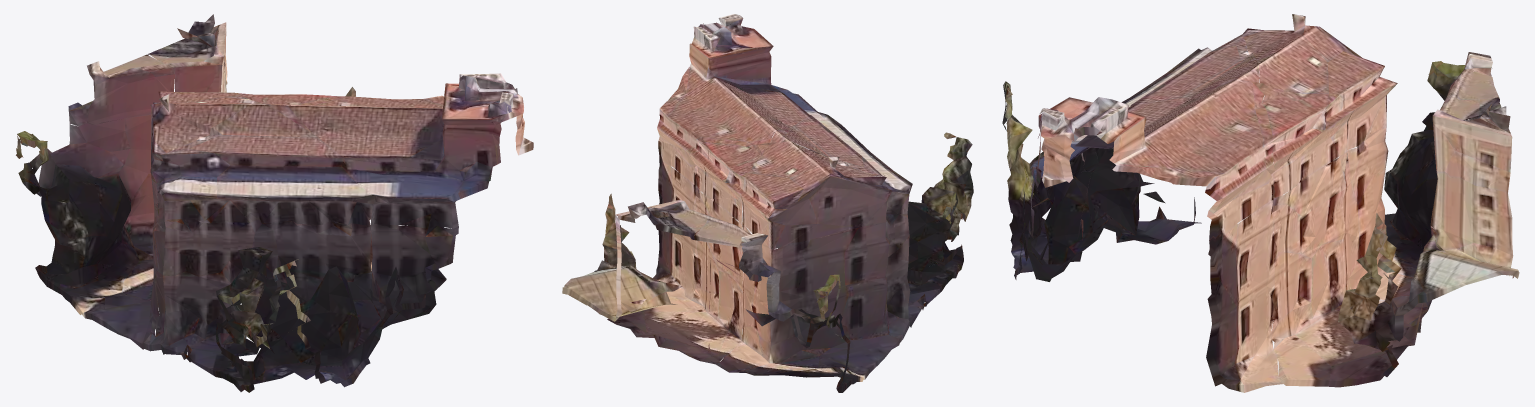
3 renders of one model, left to right at view 1: azimuth 30°, elevation 25°; view 2: azimuth 150°, elevation 25°; view 3: azimuth 270°, elevation 25°, orthographic. The views are drawn at different scales.
Parts seen in each view (by area): view 1: Mesh_0; view 2: Mesh_0; view 3: Mesh_0.
Part boxes in pixels (x1,y1,x2,y2): Mesh_0: (16,14,533,392); Mesh_0: (562,14,973,392); Mesh_0: (1002,14,1519,392).
Size of the model in its own units: 33.59 by 25.23 by 41.45.
Materials: 1 (1 with a texture image).
